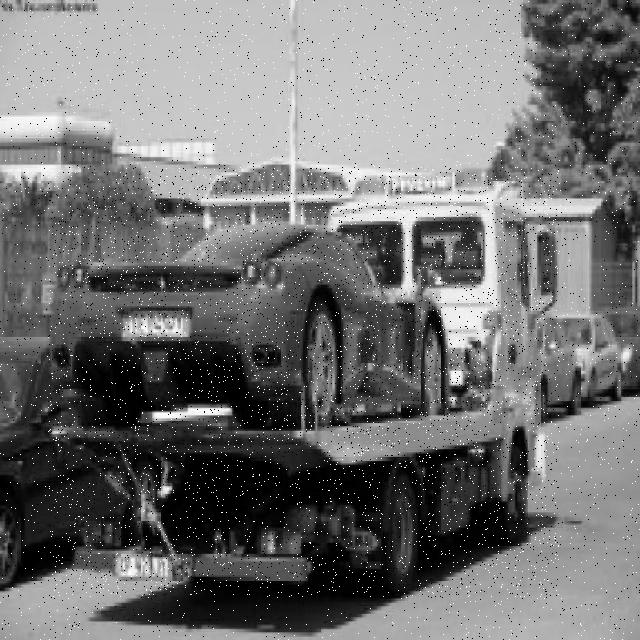Tow Truck: (49, 167, 559, 597)
